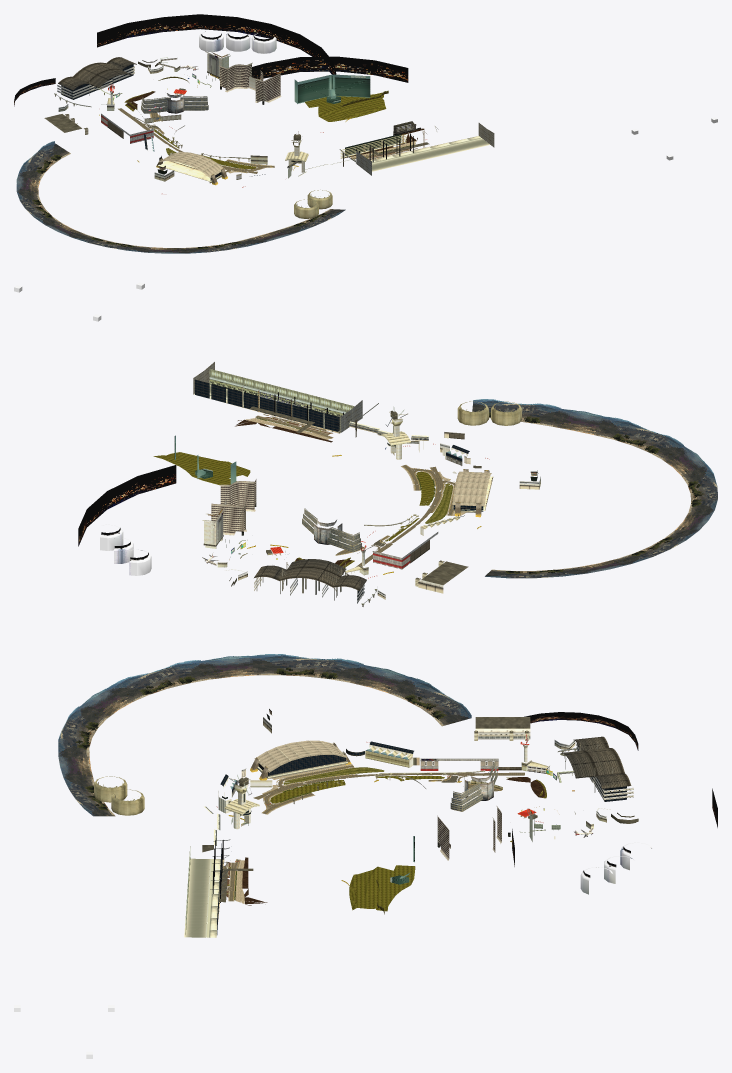
File: track-B2_C1_V2_env.glb
The picture shows the model from 3 angles, top to bottom: view 1: azimuth 30°, elevation 25°; view 2: azimuth 150°, elevation 25°; view 3: azimuth 270°, elevation 25°; orthographic projection. The views are drawn at different scales.
Parts seen in each view (by area): view 1: B2_C1_V2_env; view 2: B2_C1_V2_env; view 3: B2_C1_V2_env.
Part boxes in pixels (box(x1,y1,x2,y2)): B2_C1_V2_env: box(14, 14, 717, 253); B2_C1_V2_env: box(14, 282, 717, 606); B2_C1_V2_env: box(14, 654, 717, 1058).
Size of the model in its own units: 2822 by 179 by 2100.
96 materials, 95 textured.
